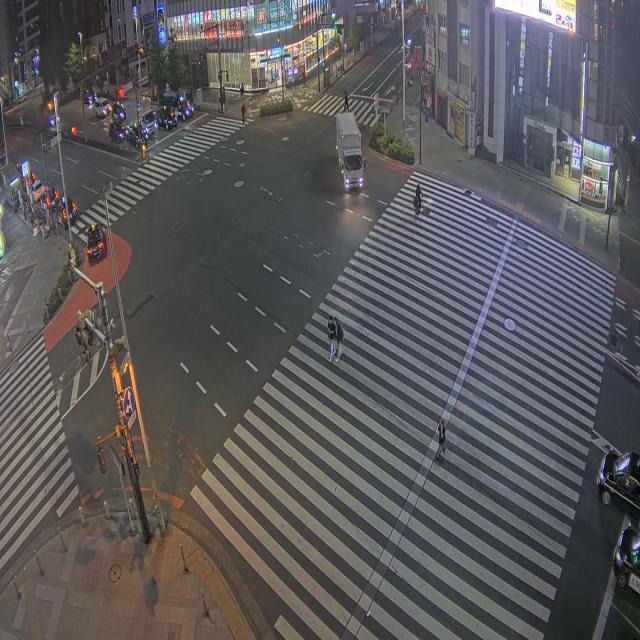car: (597, 451, 639, 509), (613, 526, 639, 592), (162, 96, 193, 120), (86, 224, 105, 261), (56, 196, 77, 228), (156, 105, 177, 130), (126, 123, 147, 148), (141, 110, 158, 135), (94, 97, 110, 119), (109, 122, 126, 142), (111, 101, 126, 122), (32, 180, 45, 200), (83, 90, 96, 106)
truck: (336, 112, 364, 191)
